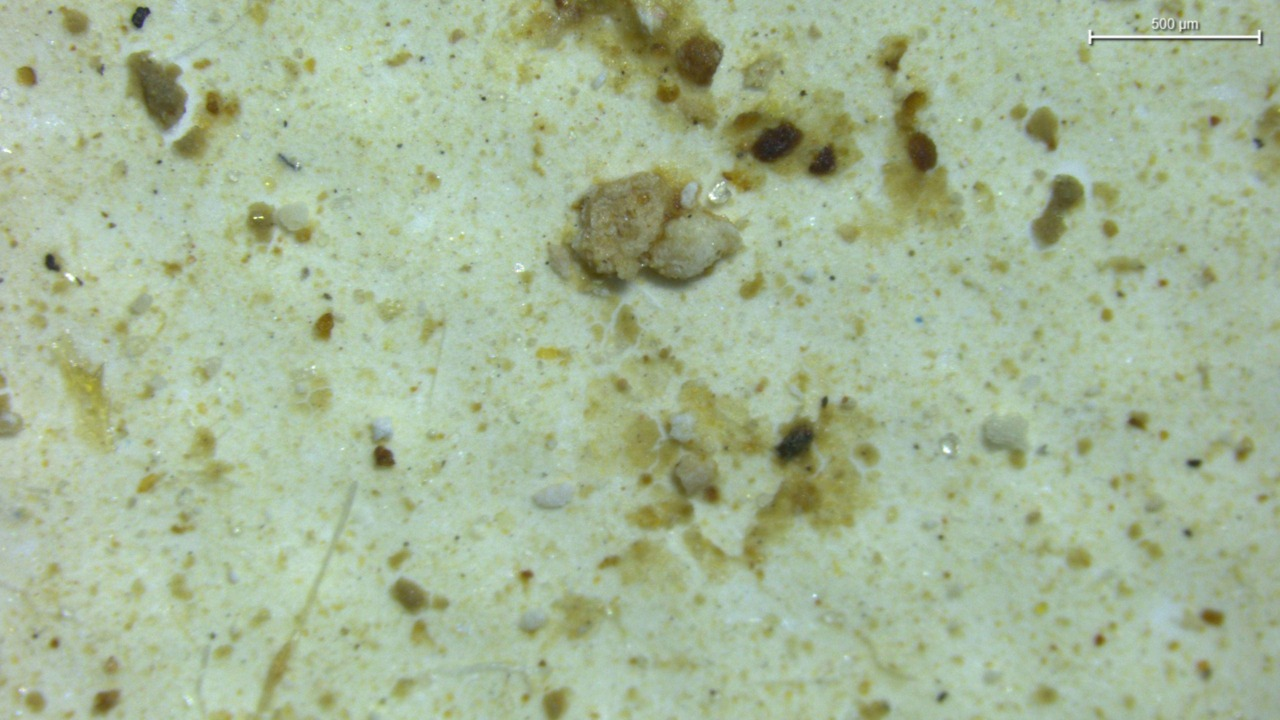microplastic_fragment: (572, 171, 674, 278), (641, 212, 742, 280), (982, 414, 1028, 451), (532, 482, 576, 509), (274, 202, 309, 231), (371, 417, 393, 443)
